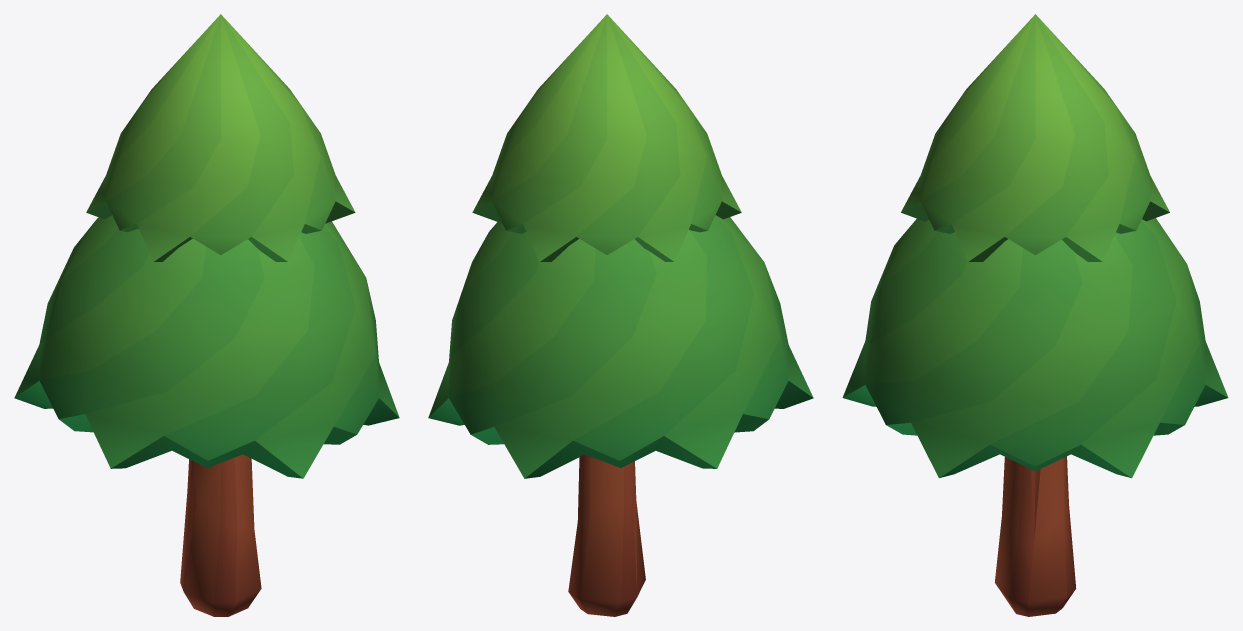
Rendered from Tree_5_A_Color1.gltf.
3 renders of one model, left to right at view 1: azimuth 30°, elevation 25°; view 2: azimuth 150°, elevation 25°; view 3: azimuth 270°, elevation 25°, orthographic.
Visible parts, largest first — view 1: Tree_5_A_Color1; view 2: Tree_5_A_Color1; view 3: Tree_5_A_Color1.
Boxes of the visible parts, x1=… form: Tree_5_A_Color1: x1=14, y1=14, x2=399, y2=616; Tree_5_A_Color1: x1=428, y1=14, x2=813, y2=616; Tree_5_A_Color1: x1=842, y1=14, x2=1228, y2=616.
Bounding box in the file's own units: 2.12 × 4.08 × 2.37.
Materials: 1 (1 with a texture image).
